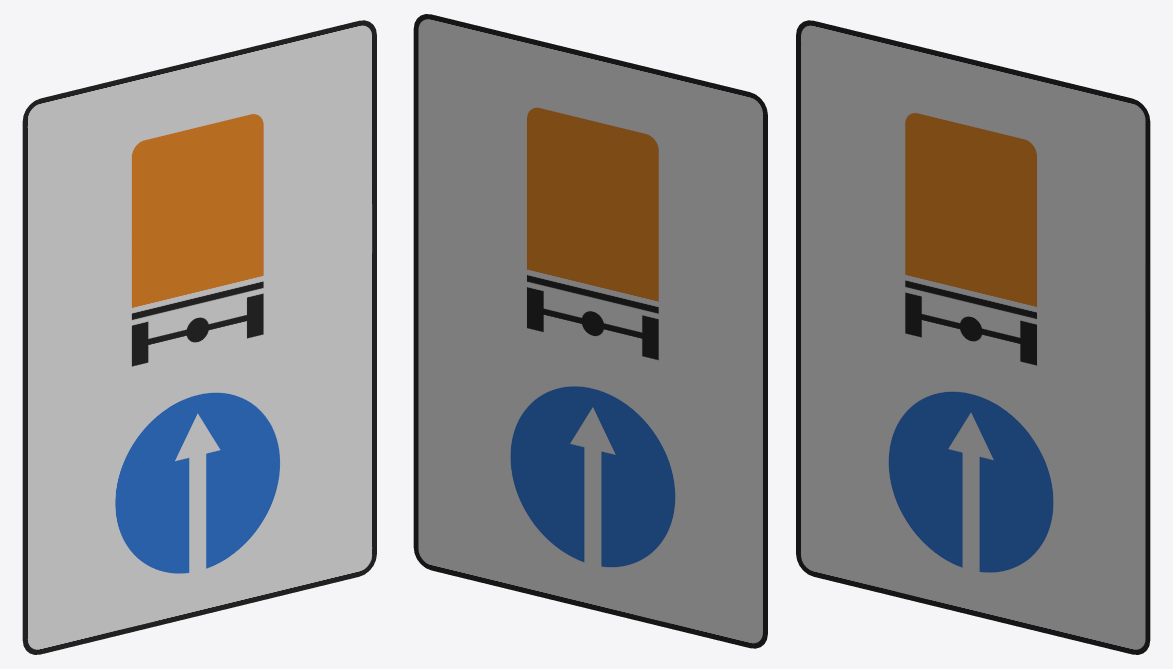
File: Sign Rectangle 1.FBX
3 renders of one model, left to right at view 1: azimuth 30°, elevation 25°; view 2: azimuth 150°, elevation 25°; view 3: azimuth 330°, elevation 25°, orthographic.
Parts seen in each view (by area): view 1: Sign Rectangle 1; view 2: Sign Rectangle 1; view 3: Sign Rectangle 1.
Boxes of the visible parts, x1=… form: Sign Rectangle 1: x1=22, y1=20, x2=376, y2=654; Sign Rectangle 1: x1=413, y1=14, x2=767, y2=648; Sign Rectangle 1: x1=796, y1=20, x2=1150, y2=654.
Size of the model in its own units: 70.87 by 106 by 3.
Materials: 1 (1 with a texture image).
